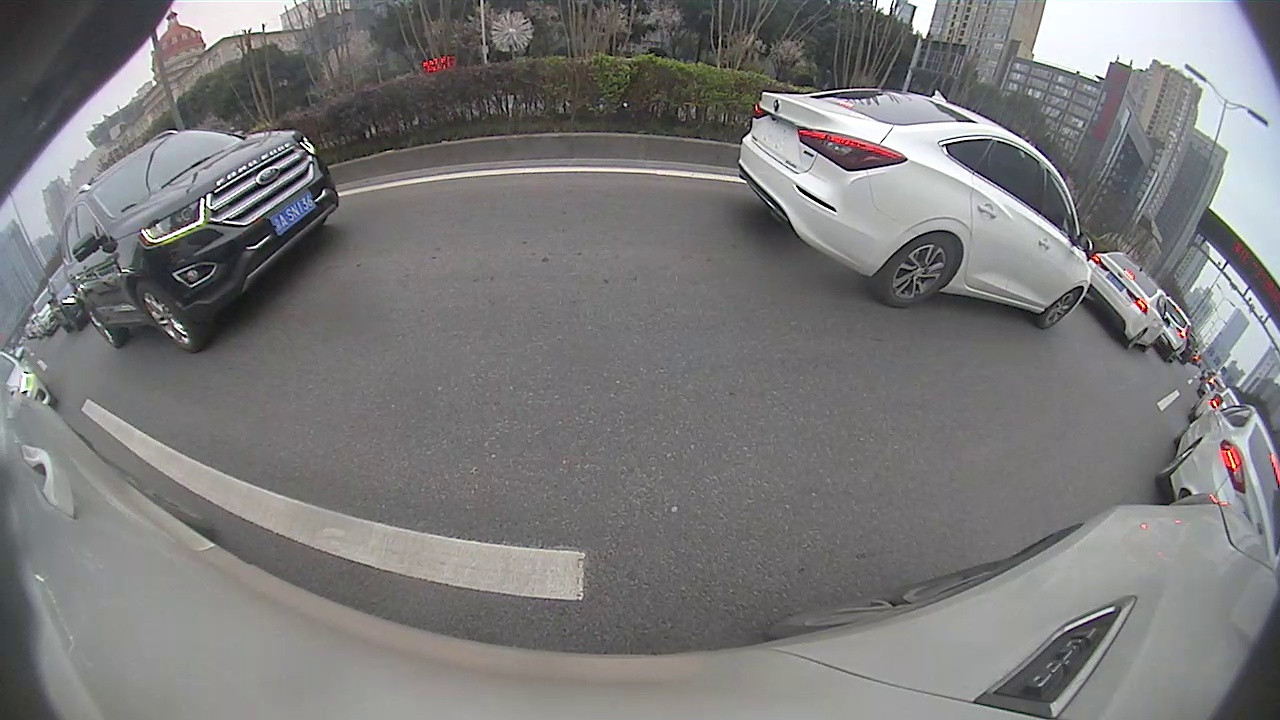car: (738, 85, 1095, 333), (59, 129, 340, 356), (1152, 396, 1278, 557), (1087, 250, 1172, 353)
front: (137, 284, 202, 353), (1038, 287, 1085, 329)
rear: (882, 232, 960, 310), (88, 309, 125, 350)
